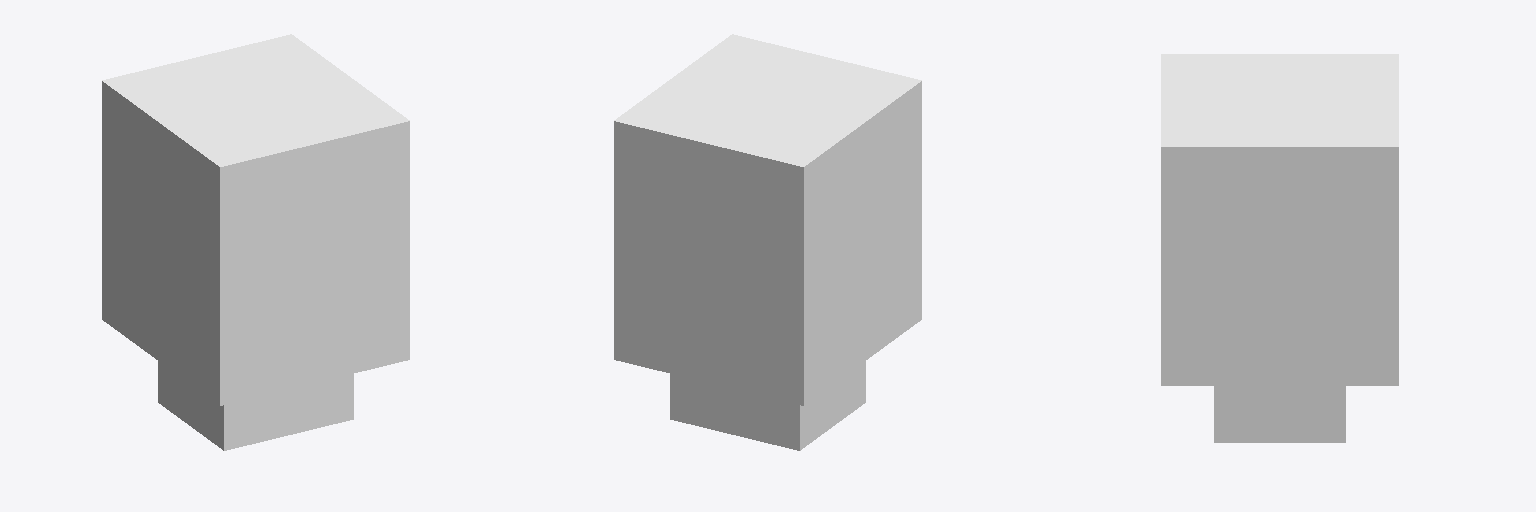
The model's file is Arbol5.obj.
The picture shows the model from 3 angles: view 1: azimuth 30°, elevation 25°; view 2: azimuth 150°, elevation 25°; view 3: azimuth 270°, elevation 25°; orthographic projection.
Bounding box in the file's own units: 25 × 39 × 27.